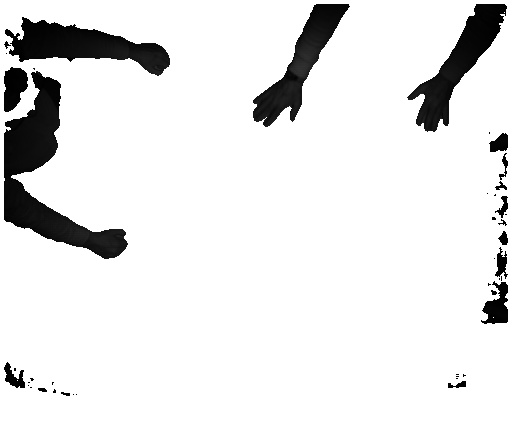fist: (136, 41, 175, 79), (93, 224, 127, 263)
hand: (400, 82, 453, 135), (248, 82, 303, 127)
